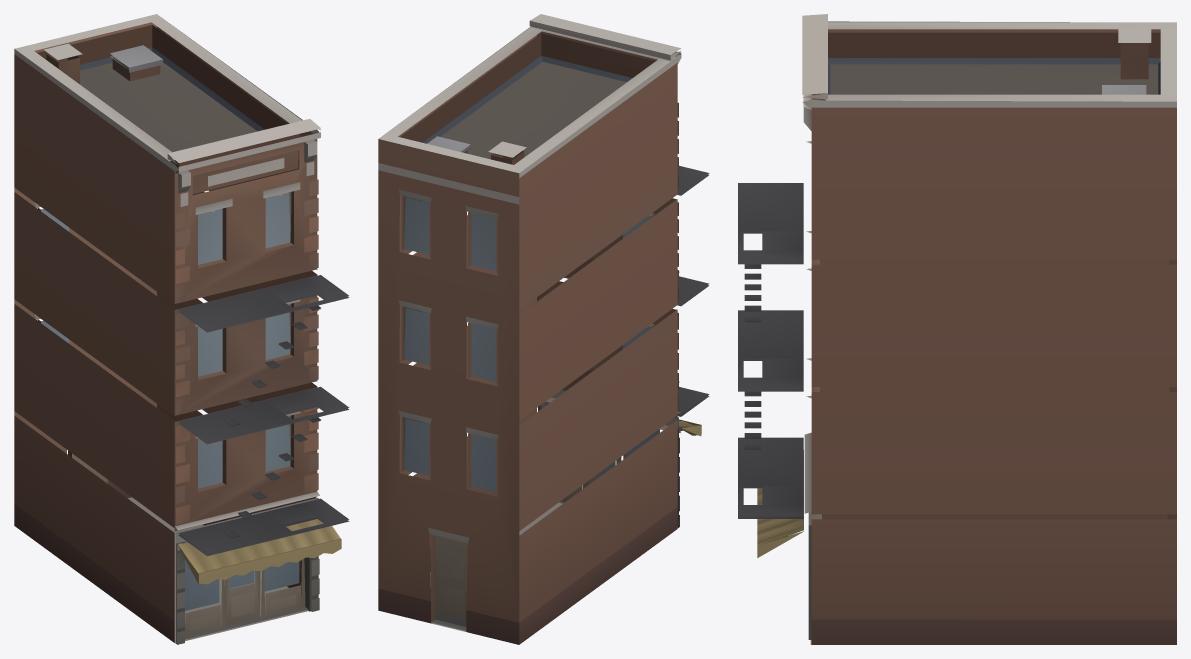
File: walkup.lod.glb
3 views of the same model, side by side, from view 1: azimuth 30°, elevation 25°; view 2: azimuth 150°, elevation 25°; view 3: azimuth 270°, elevation 25° (orthographic). The views are drawn at different scales.
Visible parts, largest first — view 1: walkup; view 2: walkup; view 3: walkup.
Boxes of the visible parts, left/top/right/bottom form: walkup: left=14, top=14, right=349, bottom=644; walkup: left=378, top=14, right=709, bottom=644; walkup: left=738, top=14, right=1176, bottom=644.
Bounding box in the file's own units: 4 × 13 × 9.37.
